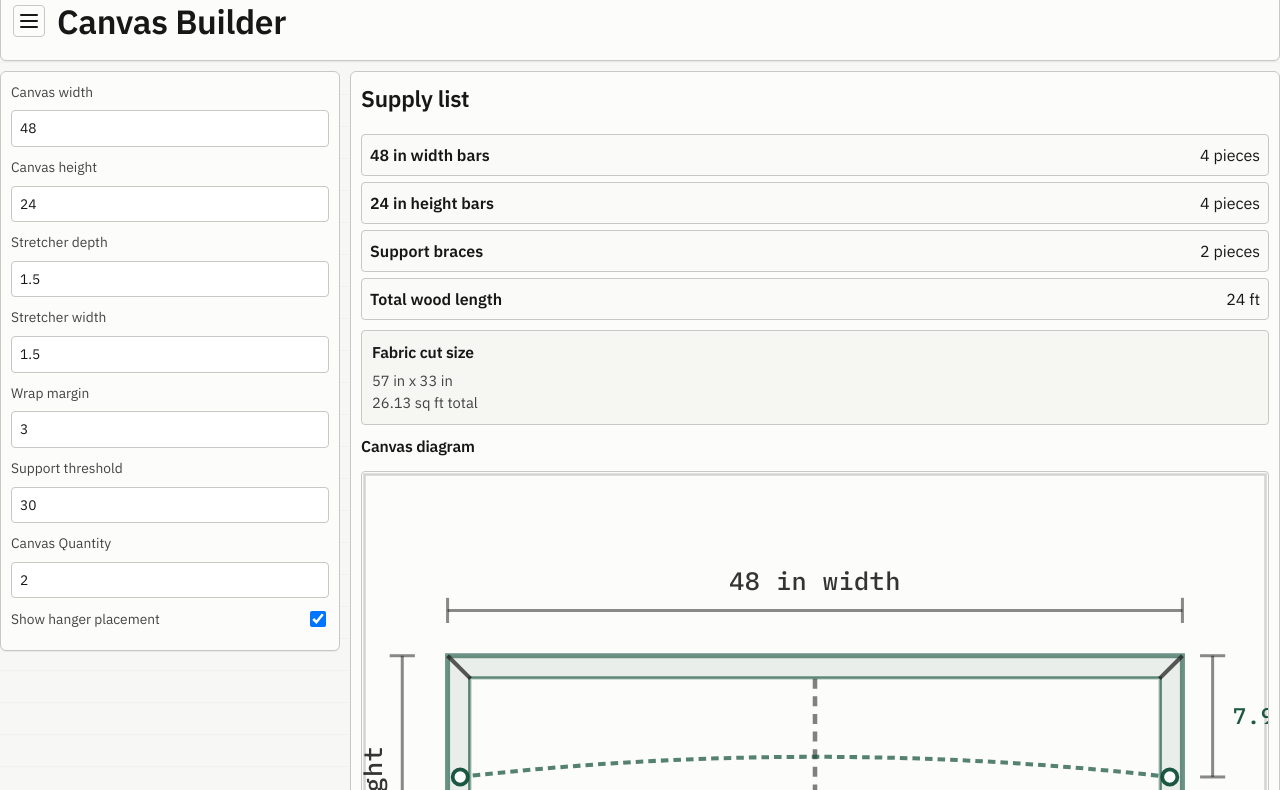
Test: CanvasBuilderPage › shows stretcher bar width and four mitre cuts in the diagram
The width and height of the screenshot is (1280, 790).
Replace the text in the number field labelled "Stretcher width" with "2.25": point(170, 354) [11,336,329,373]
(page scrolled)
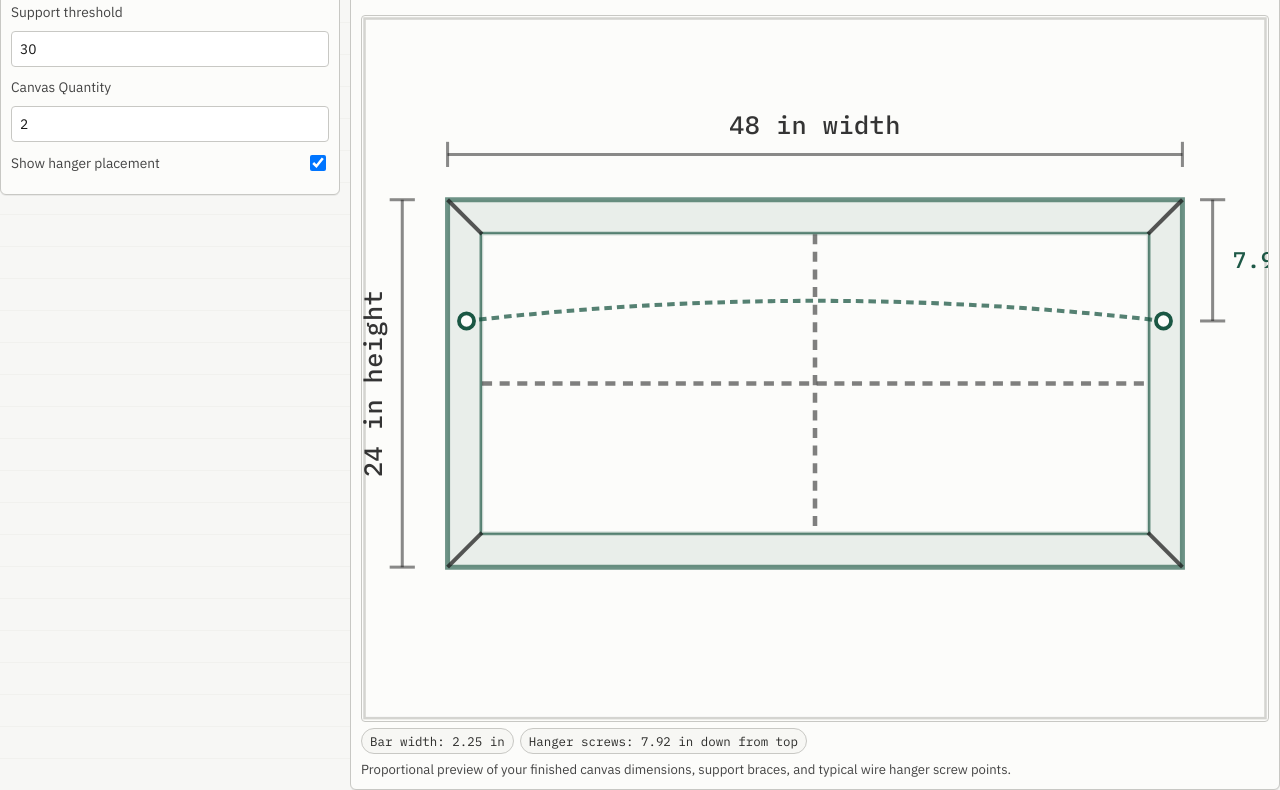
Result: the text "Bar width: 2.25 in" is shown at [361,728,514,754]
